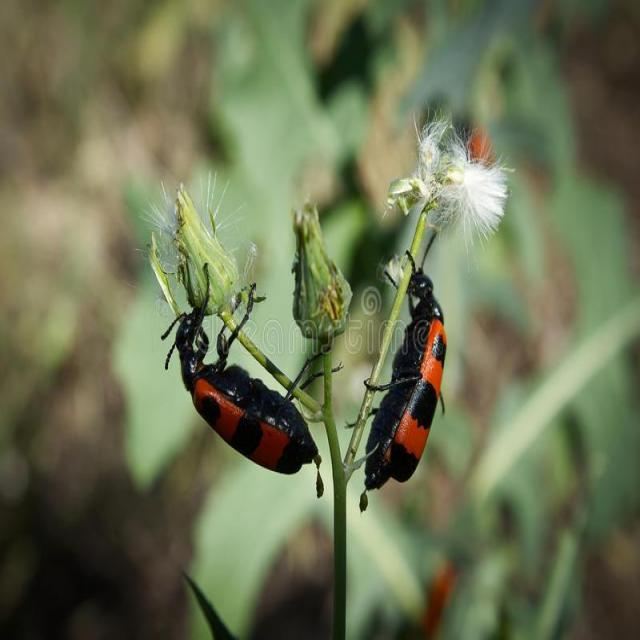BlisterBeetle-Adult-: (155, 262, 346, 496), (344, 230, 450, 498)
